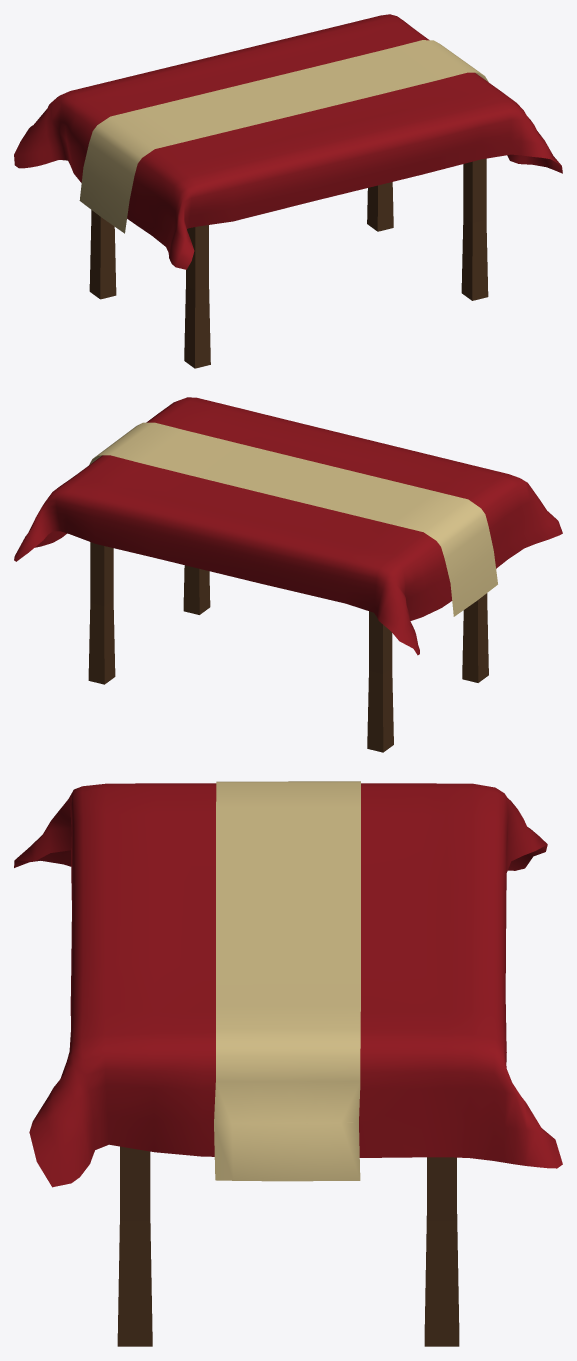
The model's file is Christmas_table_decorated.fbx.
3 renders of one model, top to bottom at view 1: azimuth 30°, elevation 25°; view 2: azimuth 150°, elevation 25°; view 3: azimuth 270°, elevation 25°, orthographic. The views are drawn at different scales.
Visible parts, largest first — view 1: Christmas_table_decorated; view 2: Christmas_table_decorated; view 3: Christmas_table_decorated.
Boxes of the visible parts, x1,y1,x2,y2 form: Christmas_table_decorated: [14, 14, 562, 368]; Christmas_table_decorated: [14, 397, 562, 752]; Christmas_table_decorated: [14, 781, 562, 1346].
Size of the model in its own units: 1.51 by 0.7167 by 1.1.
